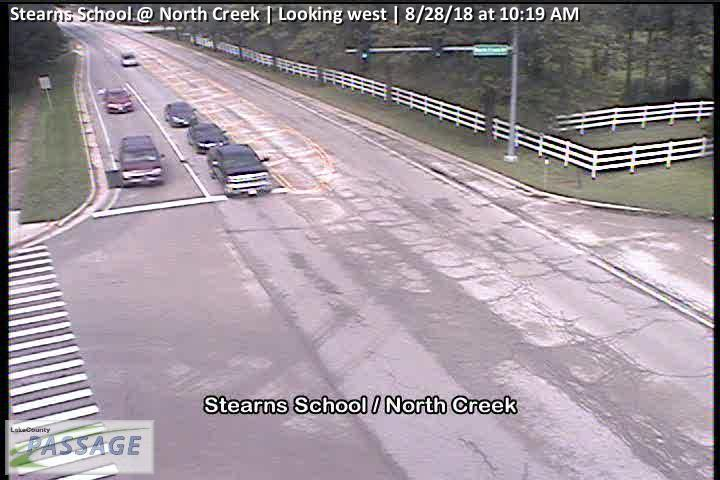SUV: (108, 135, 167, 182), (102, 86, 134, 113)
Sedan: (205, 141, 271, 194), (184, 120, 231, 154), (161, 101, 200, 128), (120, 52, 136, 66)
